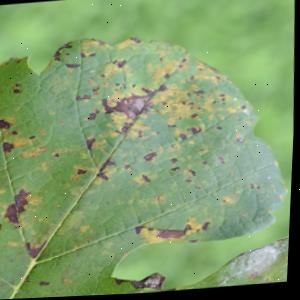Folha: (0, 25, 299, 300)
Fungo: (135, 219, 213, 245), (20, 147, 48, 160), (5, 204, 21, 226), (97, 173, 111, 183), (113, 60, 127, 70), (4, 142, 16, 153), (0, 120, 13, 130), (11, 84, 24, 94), (145, 154, 159, 162), (77, 95, 93, 102), (249, 185, 262, 193), (142, 176, 153, 185), (65, 64, 81, 70), (218, 159, 227, 167), (106, 161, 118, 167), (78, 170, 88, 176), (180, 135, 188, 142), (236, 140, 246, 145), (41, 283, 52, 287), (13, 90, 23, 94), (0, 223, 4, 231)
